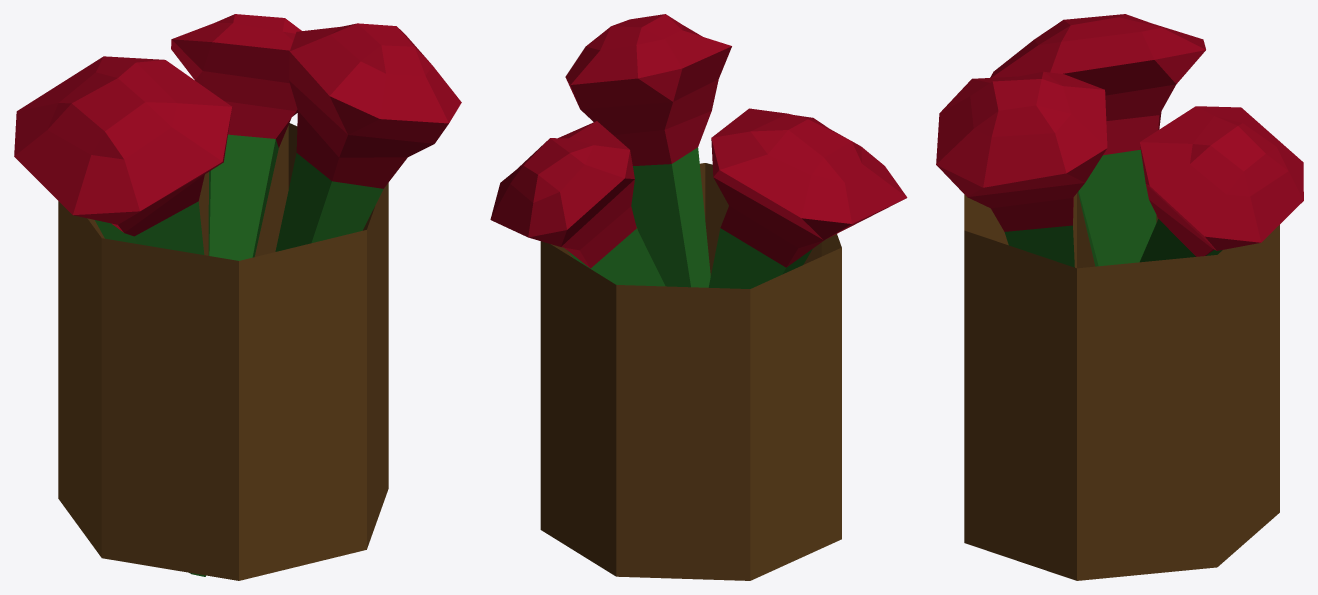
Rendered from Red_Flowers.fbx.
3 renders of one model, left to right at view 1: azimuth 30°, elevation 25°; view 2: azimuth 150°, elevation 25°; view 3: azimuth 270°, elevation 25°, orthographic. The views are drawn at different scales.
Visible parts, largest first — view 1: Red Flowers; view 2: Red Flowers; view 3: Red Flowers.
Boxes of the visible parts, x1=… form: Red Flowers: x1=14, y1=14, x2=461, y2=580; Red Flowers: x1=490, y1=14, x2=907, y2=580; Red Flowers: x1=936, y1=14, x2=1303, y2=580.
Bounding box in the file's own units: 20.65 × 29.34 × 18.58.
